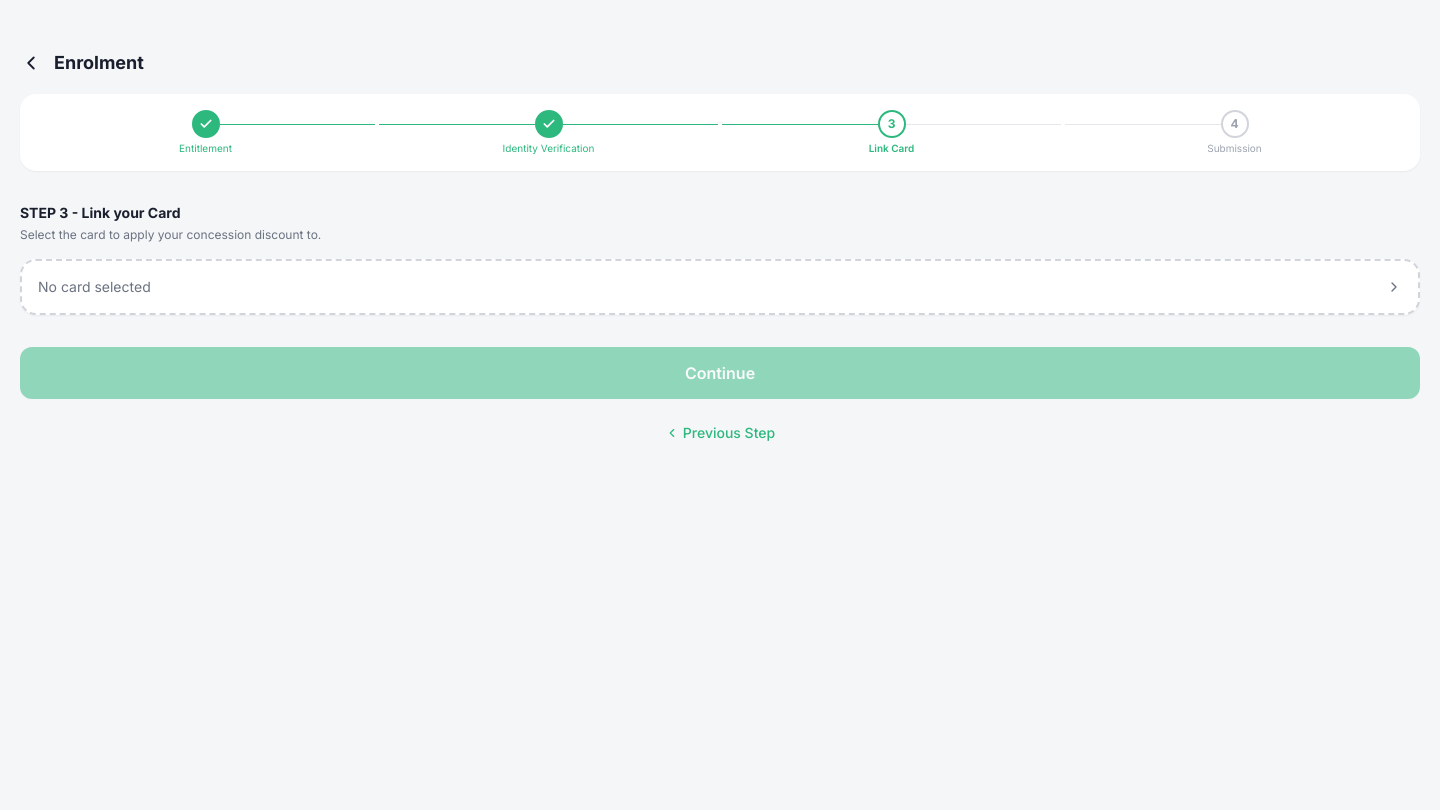
it: EnrolmentStep3Page › clicking Select Card opens CardAssignModal
Click the button with aria-label "select card" at (94, 286), box [20, 258, 1420, 314]
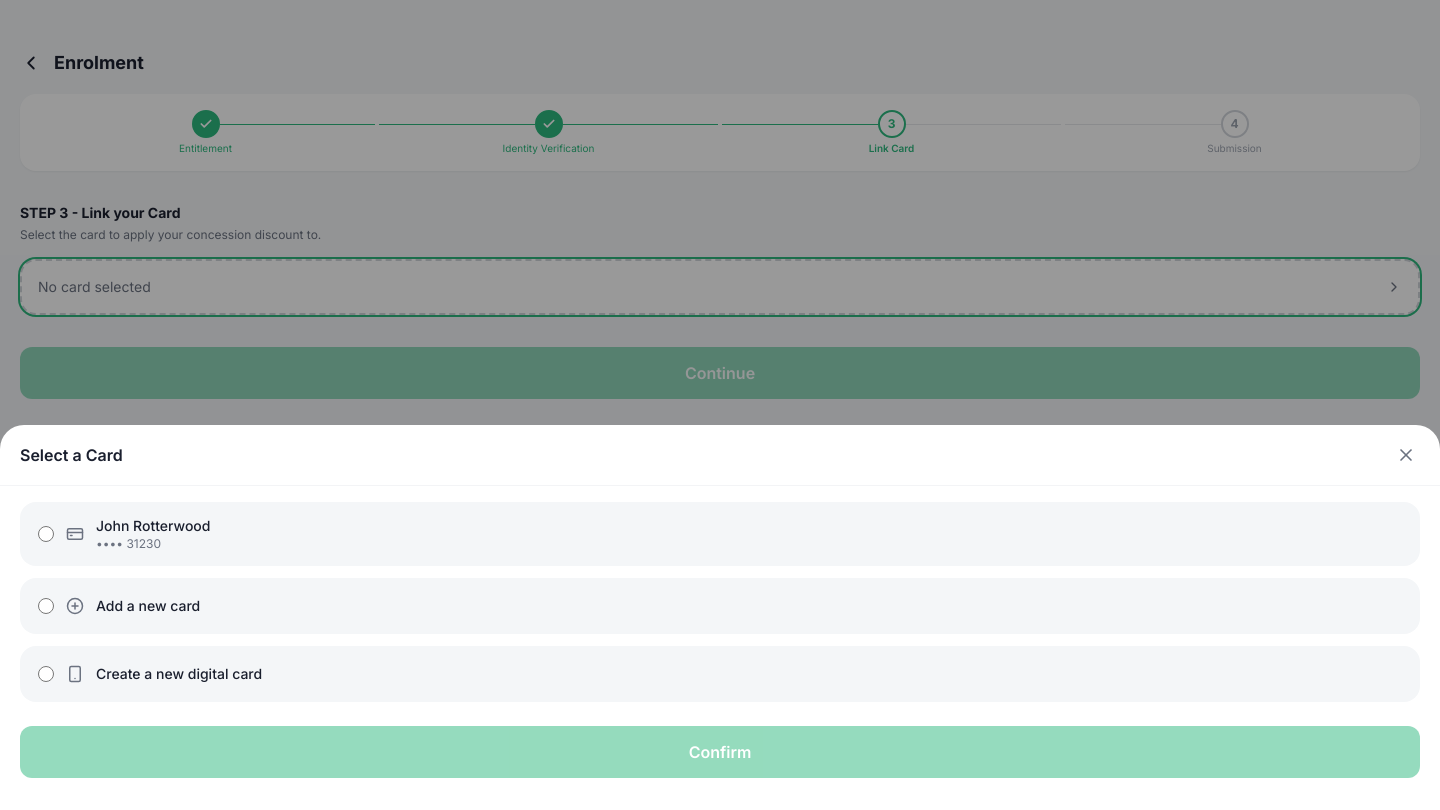
Result: the heading "Select a Card" is shown at [20, 443, 123, 467]
